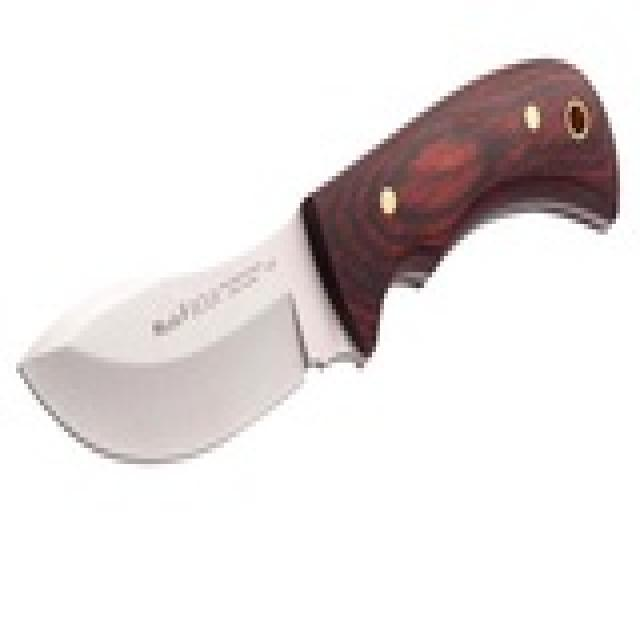Knife: (17, 66, 620, 460)
